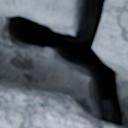brick: (0, 82, 119, 127)
broken_brick: (94, 0, 127, 81), (0, 0, 75, 33)
crack: (2, 0, 126, 127)
